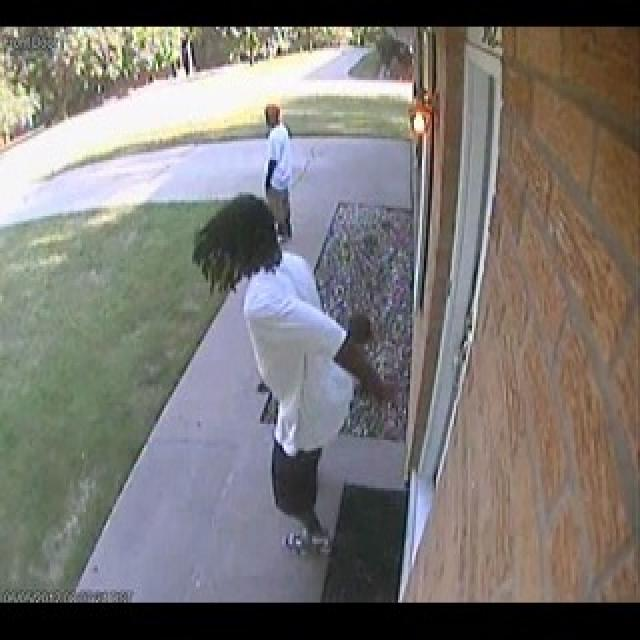thief: (184, 187, 292, 283), (248, 86, 287, 149)
